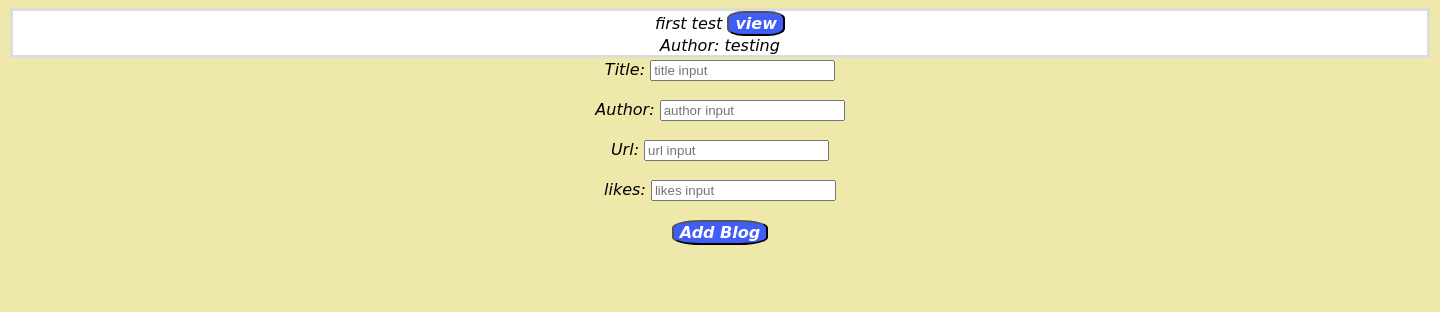
Test: blog rendering tests › clicking button shows like and url of blog
Click the button "view" at (756, 24), box [727,11,785,36]
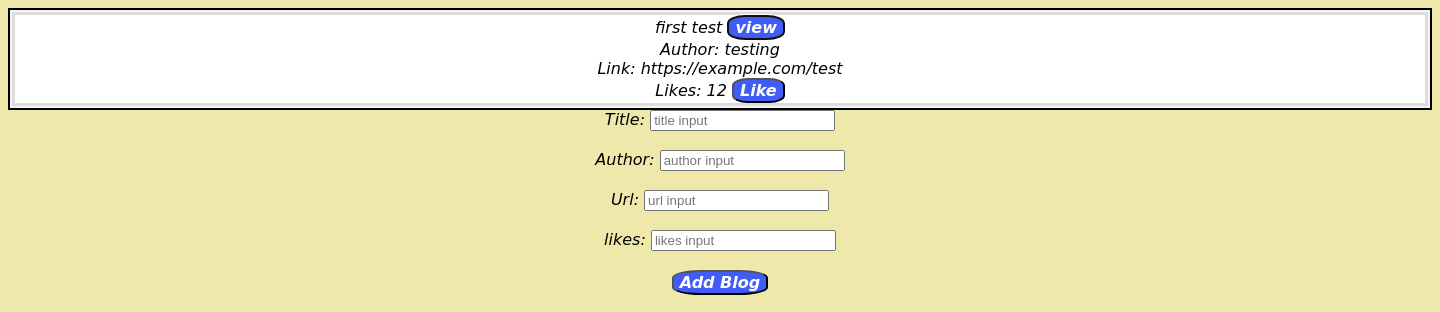
Check: the element with class "blogWhiteBg" shows "first test", box [655,18,722,37]
Check: the element with class "blogWhiteBg" shows "Likes: 12", box [12,12,1428,106]
Check: the element with class "blogWhiteBg" shows "Link: https://example.com/test", box [12,12,1428,106]
